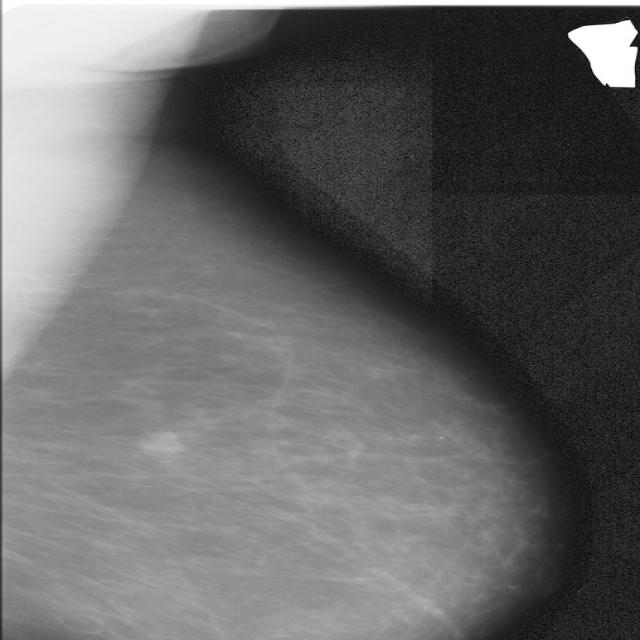tumour: (142, 431, 184, 456)
